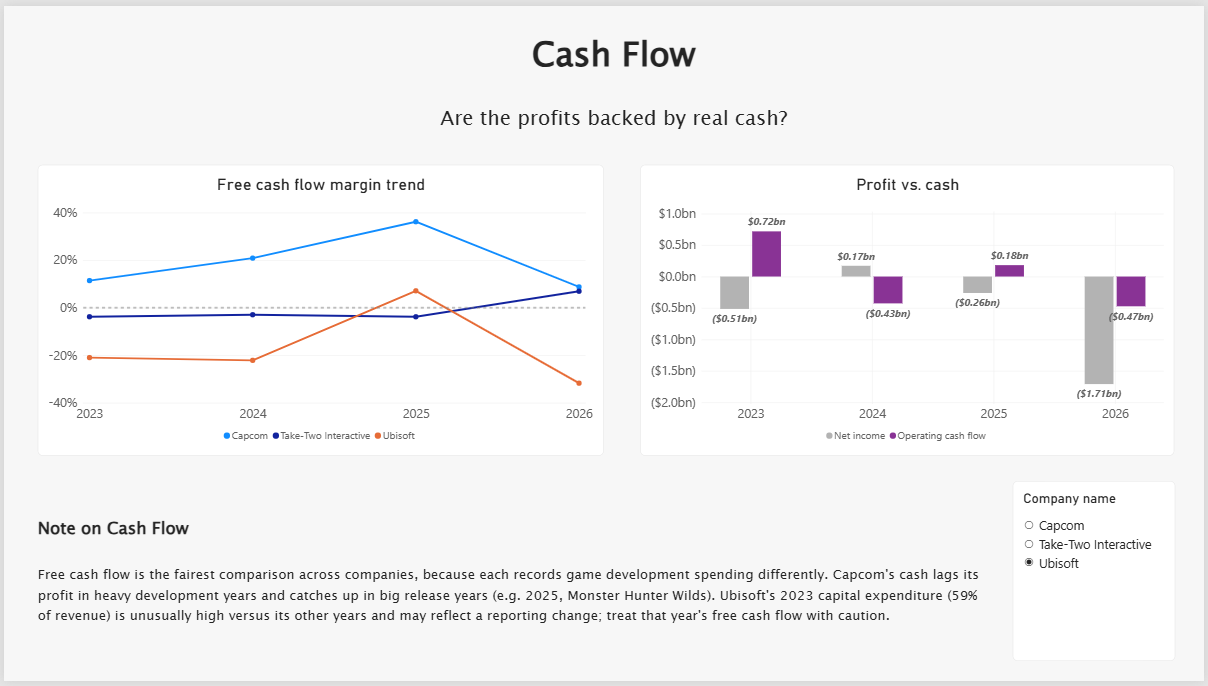

Layout of this report page (visuals, bound fields, positions):
{"tool":"powerbi","page":{"name":"Cash Flow","canvas":[1920,1080],"ordinal":3},"visuals":[{"type":"textbox","box":[481.4,0,987.2,280.8],"z":0},{"type":"lineChart","title":"Free cash flow margin trend","fields":{"Category":["Years.Year"],"Series":["public companies.company_name"],"Y":["Avg(public cash_flow_quality.free_cf_margin)"]},"box":[54.1,254.7,905.2,465.7],"z":1000},{"type":"clusteredColumnChart","title":"Profit vs. cash","fields":{"Category":["Years.Year"],"Y":["Sum(public amounts_usd.net_income_usd)","Sum(public amounts_usd.operating_cash_flow_usd)"]},"box":[1018.6,254.7,854.7,465.7],"z":2000},{"type":"listSlicer","title":"Company name","fields":{"Values":["public companies.company_name"]},"box":[1613.4,760.5,259.9,287.8],"z":3000},{"type":"textbox","box":[54.1,760.5,1515.7,319.2],"z":4000}]}

Visuals, with their boxes in screenshot pixels (x1, y1, x2, y2), scaled from the page's 1920x1080 canvas onto the 1208x686 screenshot:
textbox: <region>303, 0, 924, 178</region>
"Free cash flow margin trend" lineChart: <region>34, 162, 604, 458</region>
"Profit vs. cash" clusteredColumnChart: <region>641, 162, 1179, 458</region>
"Company name" listSlicer: <region>1015, 483, 1179, 666</region>
textbox: <region>34, 483, 988, 685</region>
